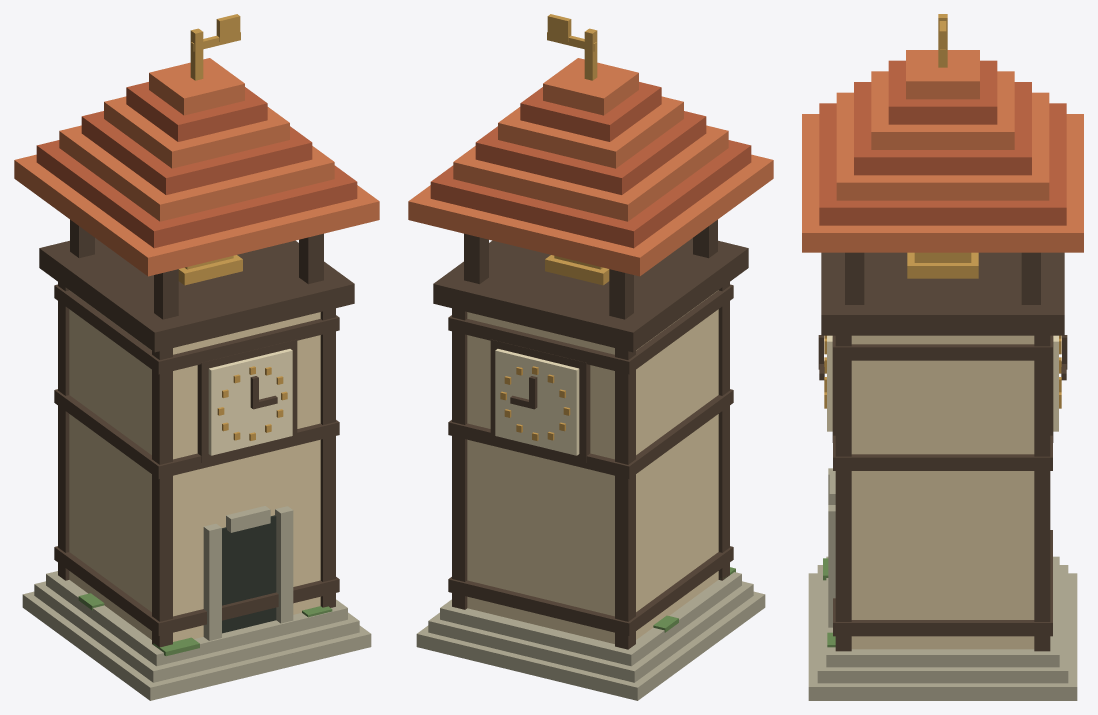
File: mossvale-bell-tower.glb
3 views of the same model, side by side, from view 1: azimuth 30°, elevation 25°; view 2: azimuth 150°, elevation 25°; view 3: azimuth 270°, elevation 25° (orthographic). The views are drawn at different scales.
Parts seen in each view (by area): view 1: Dark_oak, Ivory_plaster, Sunlit_terracotta, Warm_limestone, Terracotta, Clock_enamel, Shadow, Brass, Moss; view 2: Dark_oak, Ivory_plaster, Sunlit_terracotta, Terracotta, Warm_limestone, Clock_enamel, Brass; view 3: Ivory_plaster, Dark_oak, Sunlit_terracotta, Terracotta, Warm_limestone, Brass, Clock_enamel.
Boxes of the visible parts, x1,y1,x2,y2 form: Dark_oak: [39, 219, 354, 647]; Ivory_plaster: [69, 290, 320, 641]; Sunlit_terracotta: [14, 58, 379, 276]; Warm_limestone: [22, 506, 371, 700]; Terracotta: [36, 82, 357, 248]; Clock_enamel: [208, 349, 292, 455]; Shadow: [222, 515, 276, 633]; Brass: [178, 14, 287, 440]; Moss: [78, 593, 332, 656]; Dark_oak: [433, 219, 748, 649]; Ivory_plaster: [467, 290, 718, 643]; Sunlit_terracotta: [408, 58, 773, 276]; Terracotta: [430, 82, 751, 248]; Warm_limestone: [416, 572, 765, 700]; Clock_enamel: [495, 349, 579, 455]; Brass: [500, 14, 609, 440]; Ivory_plaster: [851, 335, 1034, 649]; Dark_oak: [818, 252, 1067, 651]; Sunlit_terracotta: [802, 50, 1083, 252]; Terracotta: [819, 60, 1066, 225]; Warm_limestone: [808, 468, 1077, 700]; Brass: [824, 14, 1061, 408]; Clock_enamel: [827, 335, 1058, 431].
Size of the model in its own units: 4.4 by 10.93 by 4.4.
